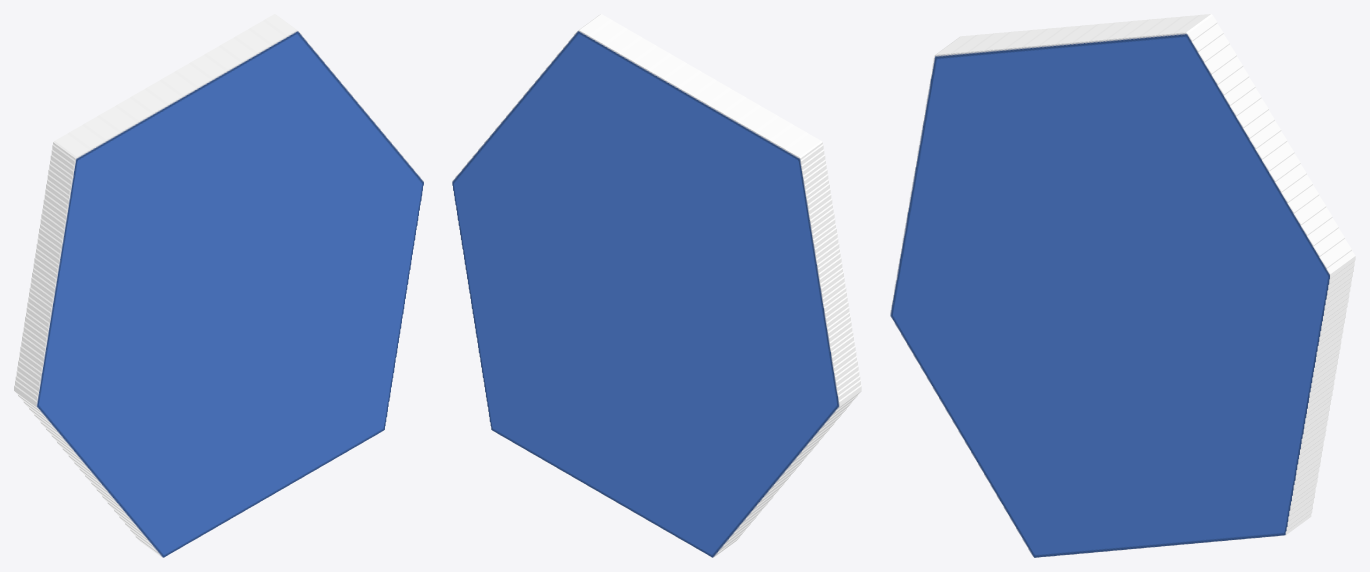
The model's file is simple_model6.glb.
3 views of the same model, side by side, from view 1: azimuth 30°, elevation 25°; view 2: azimuth 150°, elevation 25°; view 3: azimuth 330°, elevation 25° (orthographic). The views are drawn at different scales.
Size of the model in its own units: 1 by 1.22 by 0.1.
2 materials, 1 textured.
